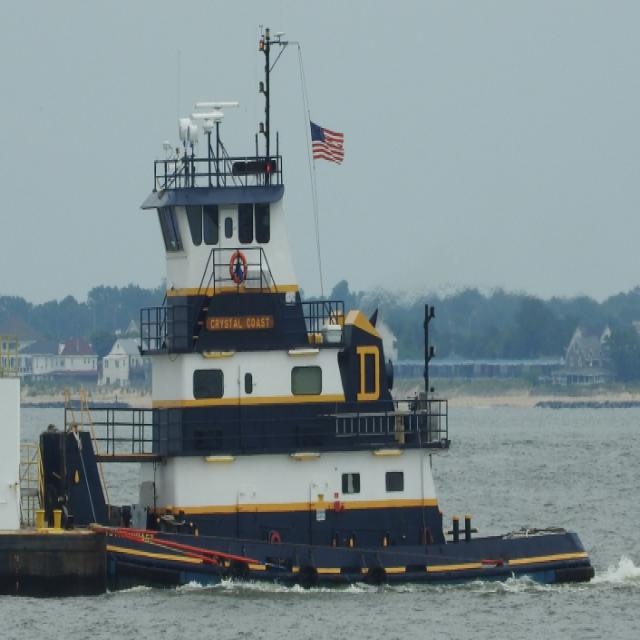tugboat: (1, 12, 606, 609)
